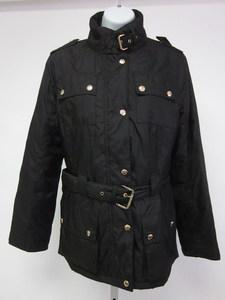C_jacket: (8, 6, 225, 293)
